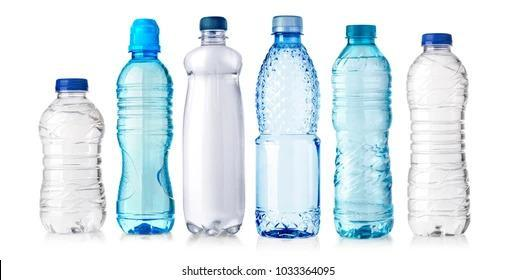bottle: (254, 12, 324, 240), (178, 10, 248, 237), (112, 13, 178, 239), (330, 20, 396, 241), (406, 31, 472, 239), (35, 74, 111, 239)
